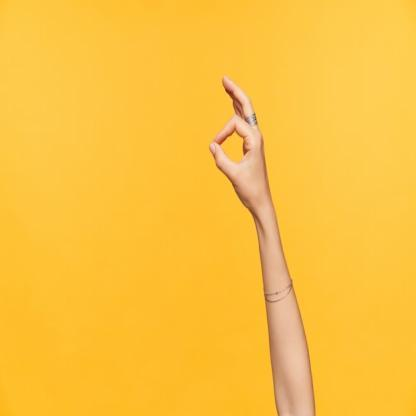ok: (204, 72, 268, 209)
